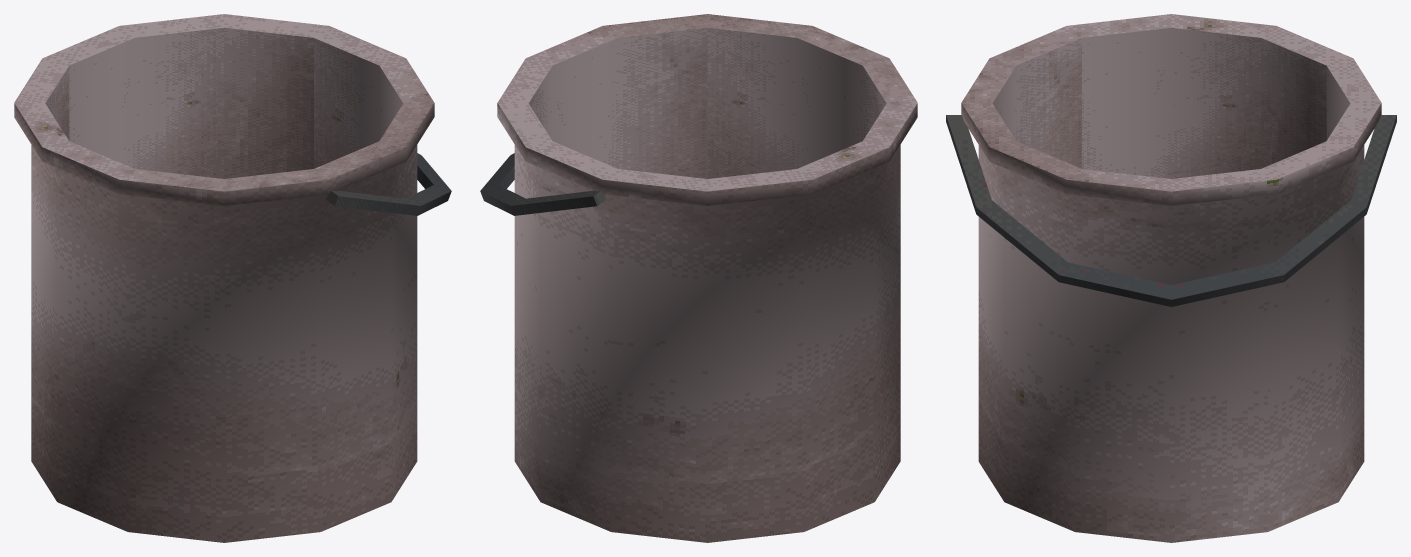
The model's file is retro_bucket.glb.
The picture shows the model from 3 angles, left to right: view 1: azimuth 30°, elevation 25°; view 2: azimuth 150°, elevation 25°; view 3: azimuth 270°, elevation 25°; orthographic projection.
Visible parts, largest first — view 1: Cylinder, Circle; view 2: Cylinder, Circle; view 3: Cylinder, Circle.
Boxes of the visible parts, x1,y1,x2,y2 form: Cylinder: [14, 14, 434, 542]; Circle: [326, 153, 451, 215]; Cylinder: [497, 14, 917, 542]; Circle: [480, 153, 605, 215]; Cylinder: [961, 14, 1381, 542]; Circle: [946, 115, 1396, 306].
Bounding box in the file's own units: 0.3875 × 0.35 × 0.3987.
1 material, 1 textured.
